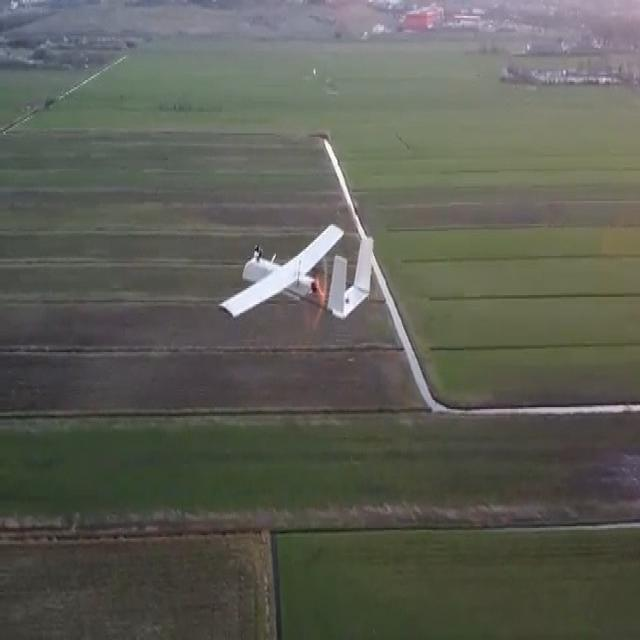drones: (216, 218, 375, 336)
